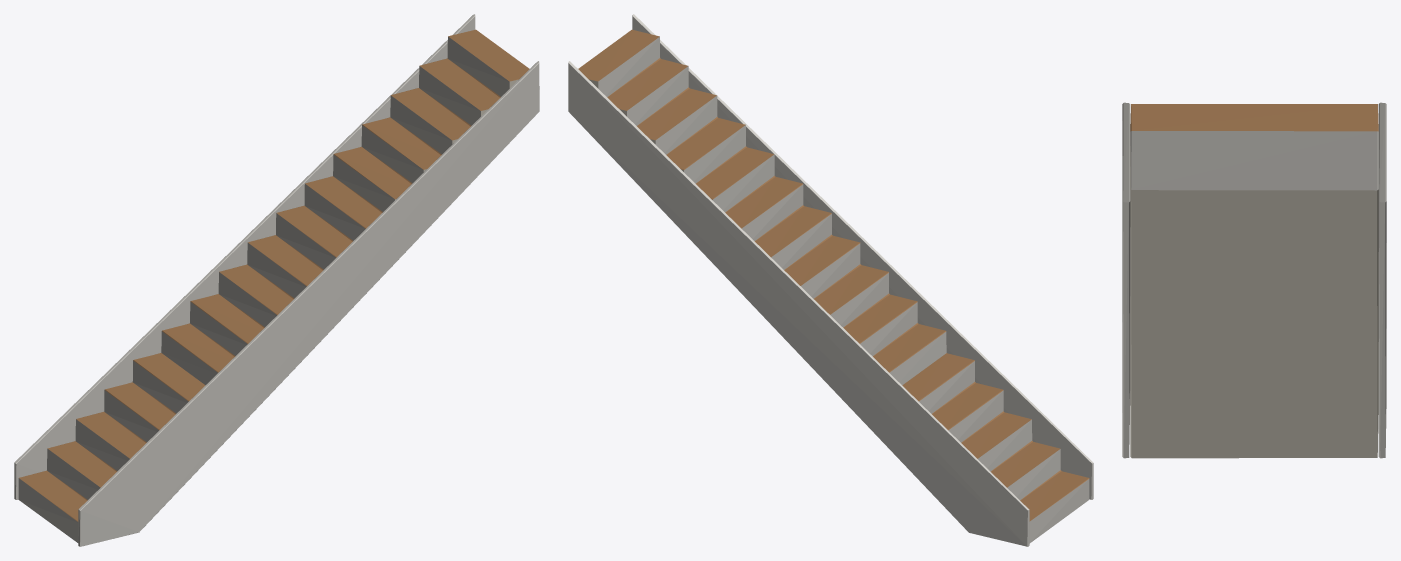
Rendered from SM_Kit_Stair_Straight_LOD1.glb.
The picture shows the model from 3 angles, left to right: view 1: azimuth 30°, elevation 25°; view 2: azimuth 150°, elevation 25°; view 3: azimuth 270°, elevation 25°; orthographic projection. The views are drawn at different scales.
Visible parts, largest first — view 1: SM_Kit_Stair_Straight_LOD1; view 2: SM_Kit_Stair_Straight_LOD1; view 3: SM_Kit_Stair_Straight_LOD1.
Boxes of the visible parts, box(x1,y1,x2,y2) form: SM_Kit_Stair_Straight_LOD1: box(14, 14, 539, 546); SM_Kit_Stair_Straight_LOD1: box(568, 14, 1093, 546); SM_Kit_Stair_Straight_LOD1: box(1122, 102, 1386, 458).
Bounding box in the file's own units: 4.02 × 3.12 × 1.
